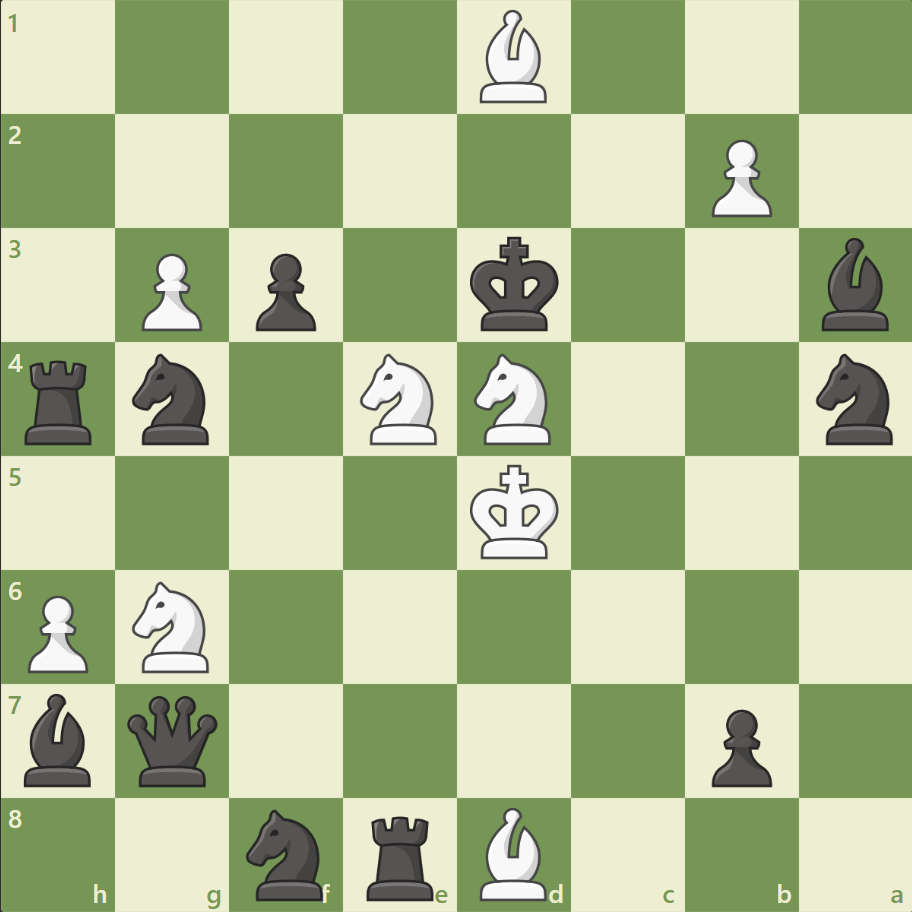B: (471, 801, 555, 904), (471, 6, 555, 109)
K: (465, 458, 565, 566)
N: (124, 575, 222, 677), (351, 348, 449, 450), (465, 348, 562, 450)
P: (20, 586, 95, 677), (133, 246, 208, 337), (701, 132, 776, 223)
b: (17, 687, 101, 790), (812, 233, 896, 336)
k: (465, 231, 565, 339)
n: (124, 348, 222, 450), (238, 802, 335, 904), (806, 348, 903, 450)
p: (701, 700, 776, 791), (247, 246, 322, 337)
q: (124, 690, 223, 789)
r: (19, 352, 102, 449), (360, 806, 442, 904)
